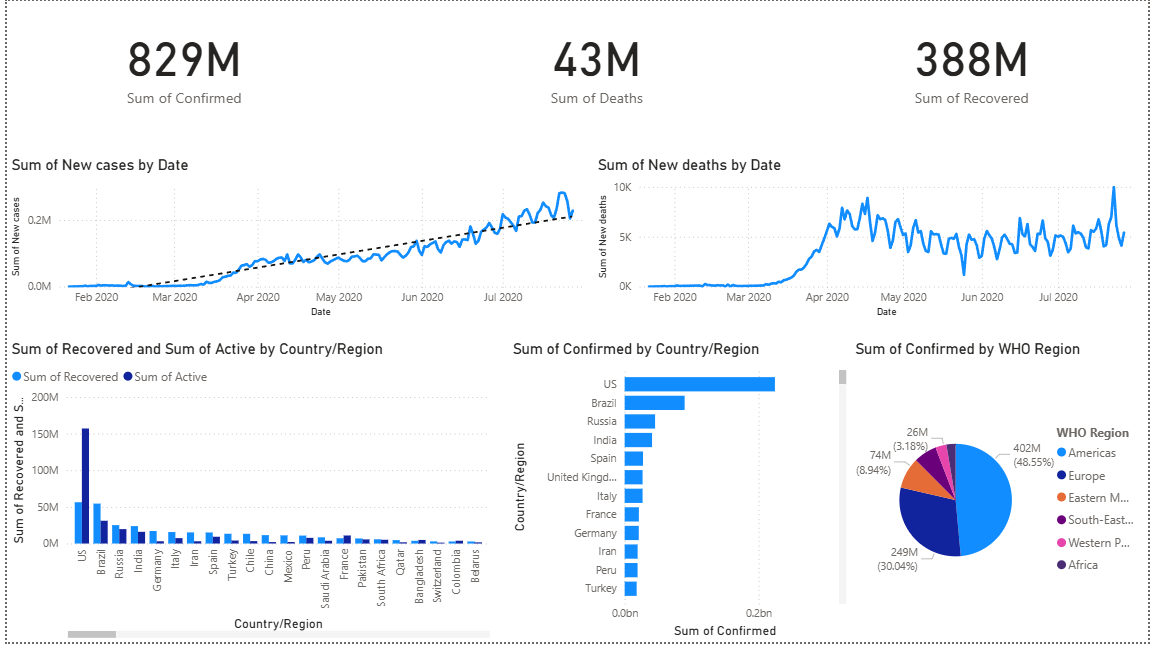

The page's visual inventory and layout, read from the dashboard file:
{"tool":"powerbi","page":{"name":"Page 1","canvas":[1280,720],"ordinal":0},"visuals":[{"type":"card","fields":{"Values":["Sum(owid-covid-data.Confirmed)"]},"box":[0,0,398.2,138.8],"z":0},{"type":"card","fields":{"Values":["Sum(owid-covid-data.Deaths)"]},"box":[450.1,0,423.5,138.8],"z":1000},{"type":"card","fields":{"Values":["Sum(owid-covid-data.Recovered)"]},"box":[884.8,0,395.4,138.8],"z":2000},{"type":"lineChart","fields":{"Y":["Sum(owid-covid-data.New cases)"],"Category":["owid-covid-data.Date"]},"box":[0,173.9,661.9,186.5],"z":3000},{"type":"lineChart","fields":{"Category":["owid-covid-data.Date"],"Y":["Sum(owid-covid-data.New deaths)"]},"box":[657.7,173.9,622.6,186.5],"z":4000},{"type":"clusteredBarChart","fields":{"Category":["owid-covid-data.Country/Region"],"Y":["Sum(owid-covid-data.Confirmed)"]},"box":[562.3,380,384.2,339.4],"z":5000},{"type":"clusteredColumnChart","fields":{"Category":["owid-covid-data.Country/Region"],"Y":["Sum(owid-covid-data.Recovered)","Sum(owid-covid-data.Active)"]},"box":[0,380,546.9,339.4],"z":5001},{"type":"pieChart","fields":{"Category":["owid-covid-data.WHO Region"],"Y":["Sum(owid-covid-data.Confirmed)"]},"box":[946.5,380,333.7,339.4],"z":5002}]}

Visuals, with their boxes in screenshot pixels (x1, y1, x2, y2), scaled from the page's 1280x720 canvas onto the 1150x647 screenshot:
card - Sum(owid-covid-data.Confirmed): 0:0:358:125
card - Sum(owid-covid-data.Deaths): 404:0:785:125
card - Sum(owid-covid-data.Recovered): 795:0:1149:125
lineChart - Sum(owid-covid-data.New cases) x owid-covid-data.Date: 0:156:595:324
lineChart - owid-covid-data.Date x Sum(owid-covid-data.New deaths): 591:156:1149:324
clusteredBarChart - owid-covid-data.Country/Region x Sum(owid-covid-data.Confirmed): 505:341:850:646
clusteredColumnChart - owid-covid-data.Country/Region x Sum(owid-covid-data.Recovered): 0:341:491:646
pieChart - owid-covid-data.WHO Region x Sum(owid-covid-data.Confirmed): 850:341:1149:646
